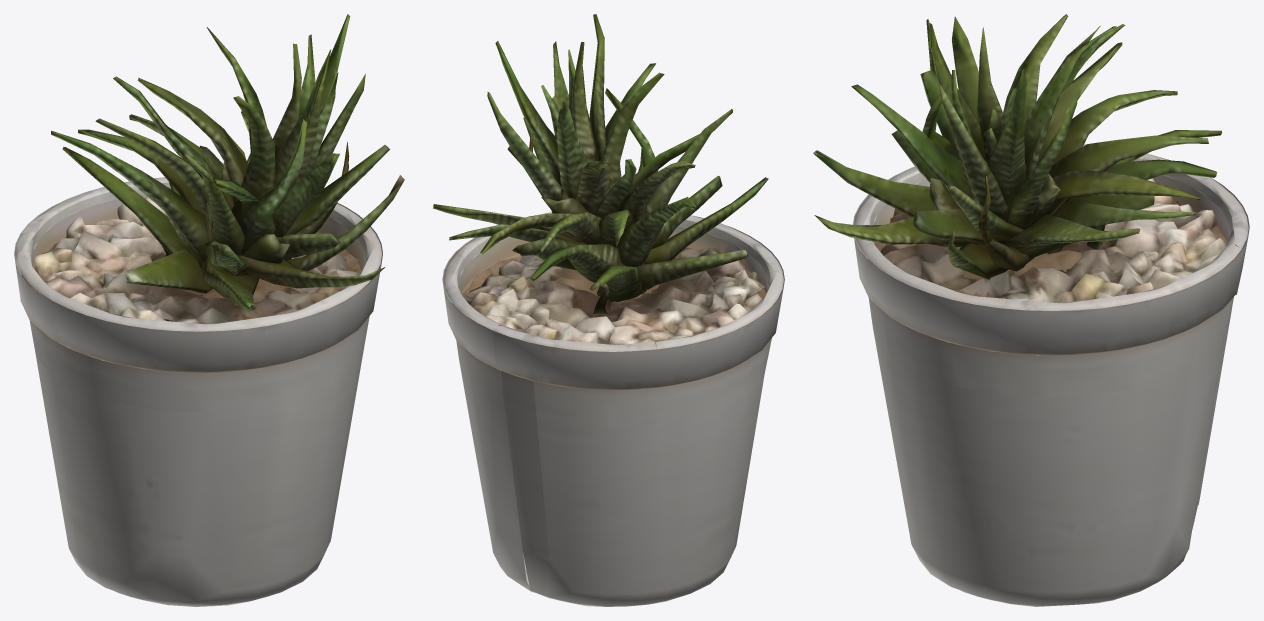
File: plant-small-balanced-2e3442d197.glb
3 views of the same model, side by side, from view 1: azimuth 30°, elevation 25°; view 2: azimuth 150°, elevation 25°; view 3: azimuth 270°, elevation 25° (orthographic). The views are drawn at different scales.
Visible parts, largest first — view 1: potted_plant_04_dirt; view 2: potted_plant_04_dirt; view 3: potted_plant_04_dirt.
Boxes of the visible parts, x1,y1,x2,y2 form: potted_plant_04_dirt: [14, 14, 404, 606]; potted_plant_04_dirt: [433, 14, 784, 606]; potted_plant_04_dirt: [813, 14, 1249, 606].
Bounding box in the file's own units: 0.168 × 0.2674 × 0.1846.
1 material, 1 textured.
